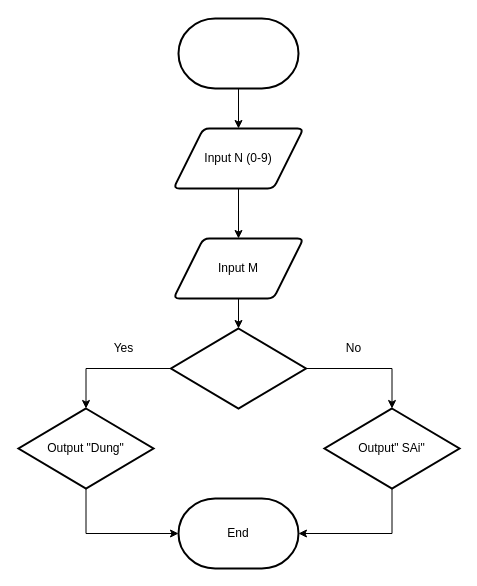
Image size: 477x586. Some labels were removed from this diagram. The shapes that lost their labels are listed below. From the top down, each one's centre as x and y in pixels, then its label:
At pixel 238 53: "Begin".
At pixel 238 368: "N == M".
